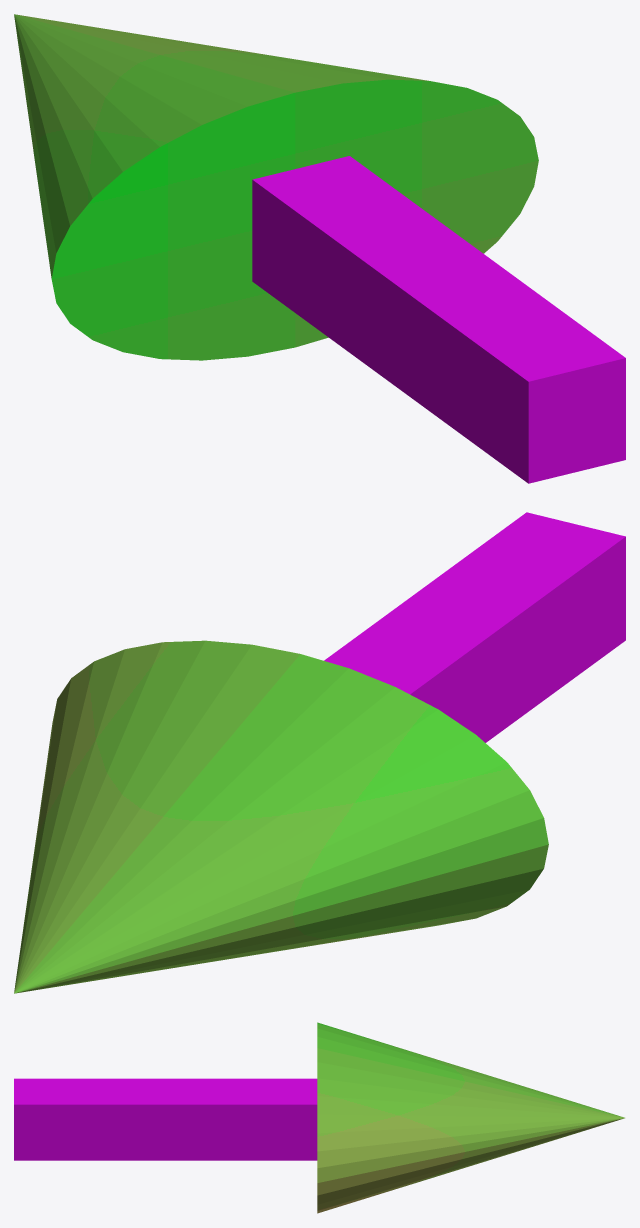
Rendered from arrow.gltf.
3 views of the same model, one above another, from view 1: azimuth 30°, elevation 25°; view 2: azimuth 150°, elevation 25°; view 3: azimuth 270°, elevation 25° (orthographic). The views are drawn at different scales.
Visible parts, largest first — view 1: Cone, Cube; view 2: Cone, Cube; view 3: Cone, Cube.
Boxes of the visible parts, bbox=[...] form: Cone: bbox=[14, 14, 538, 360]; Cube: bbox=[252, 156, 625, 483]; Cone: bbox=[14, 640, 548, 993]; Cube: bbox=[324, 512, 625, 742]; Cone: bbox=[317, 1022, 624, 1213]; Cube: bbox=[14, 1078, 317, 1160].
Bounding box in the file's own units: 2 × 1 × 3.96.
2 materials, 1 textured.
